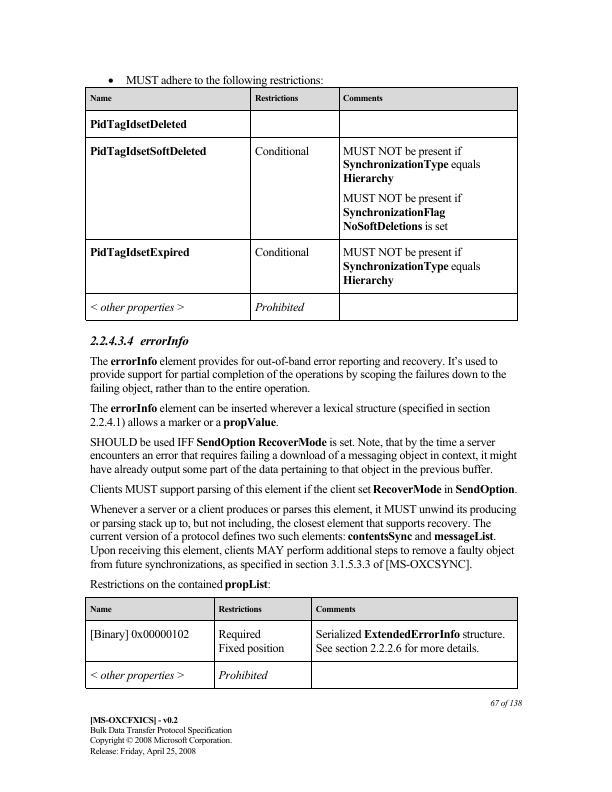table: (86, 87, 520, 323), (85, 596, 520, 691)
text: (88, 503, 517, 572), (88, 434, 518, 478), (88, 355, 508, 394), (87, 400, 492, 429), (86, 481, 518, 496), (86, 712, 233, 755), (86, 577, 274, 591), (123, 74, 327, 85), (88, 331, 189, 351), (490, 696, 525, 709)
